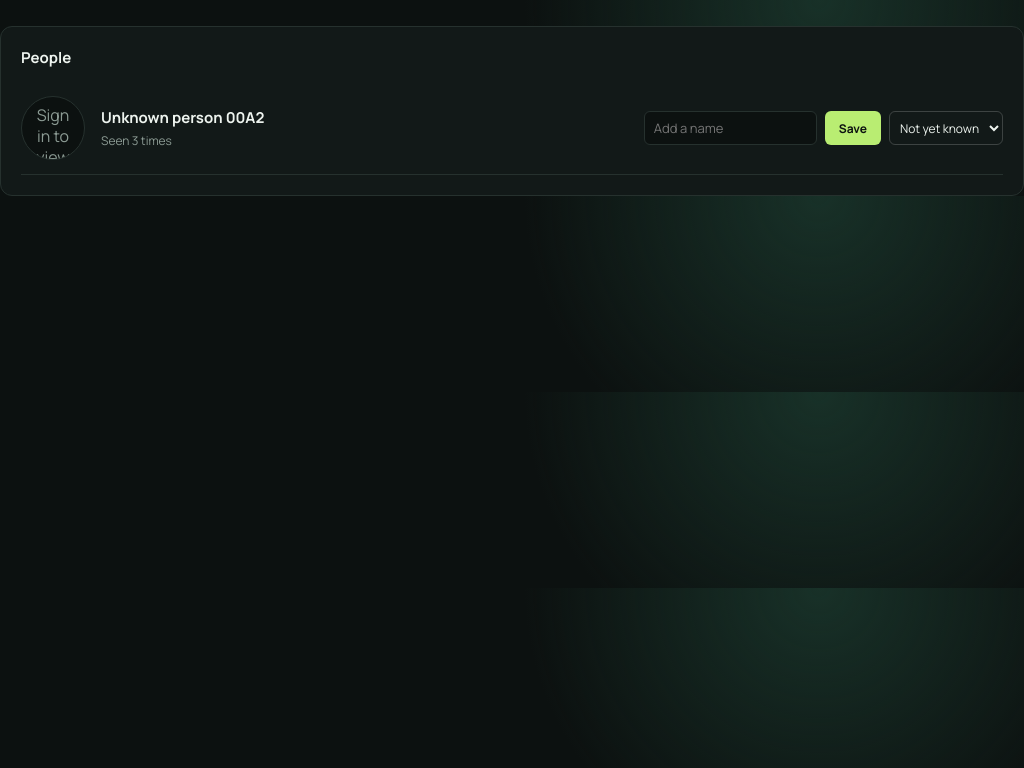
Scenario: trust is a human decision › tells the user when naming folded other sighting groups together
Type "Sarah" into the field named "Name for Unknown person 00A2" at (730,128), box x1=644 y1=111 x2=817 y2=145
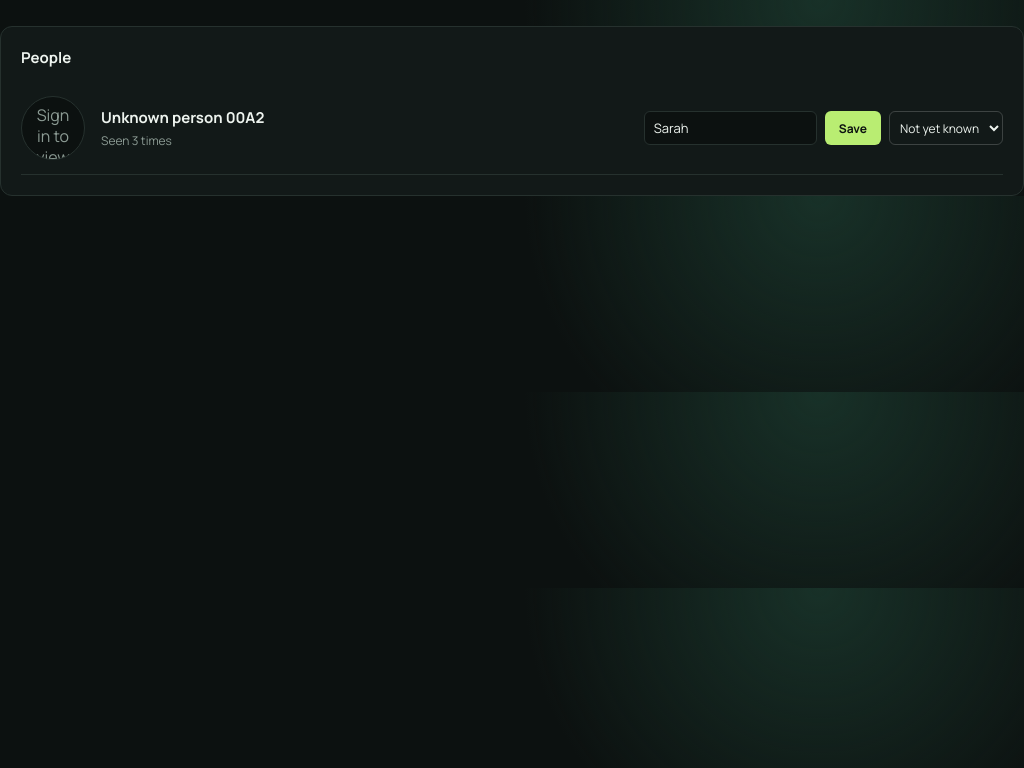
Press Enter in the field named "Name for Unknown person 00A2", box x1=644 y1=111 x2=817 y2=145
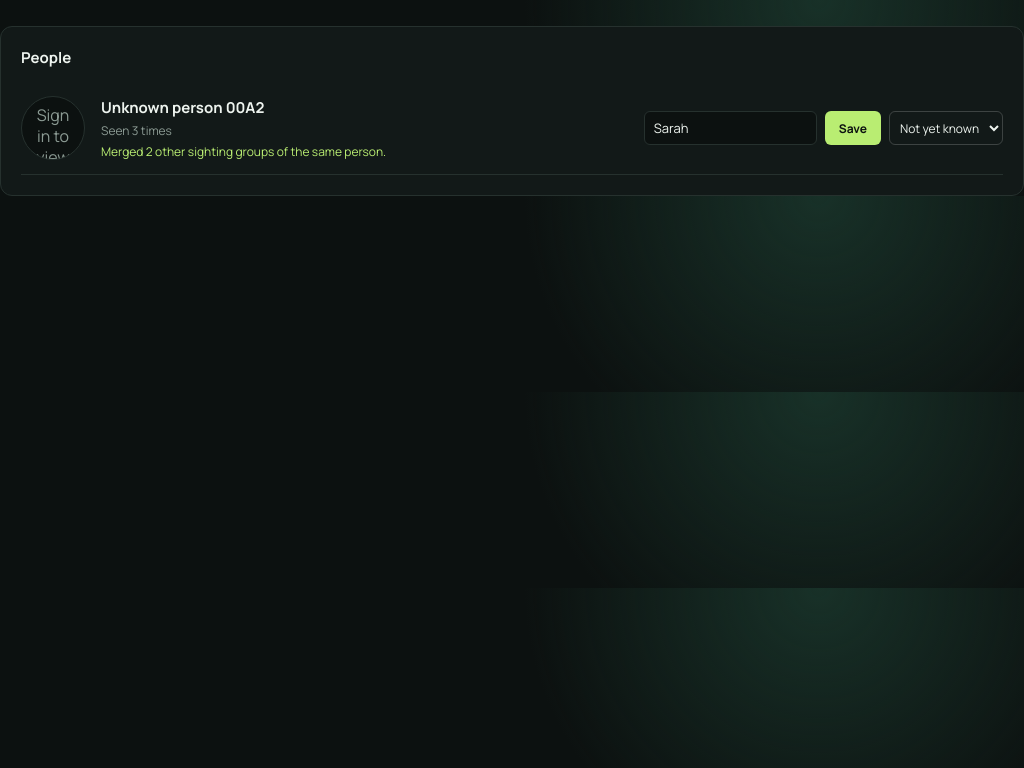
Now the text "Merged 2 other sighting groups of the same person." is shown, box x1=101 y1=142 x2=386 y2=160
